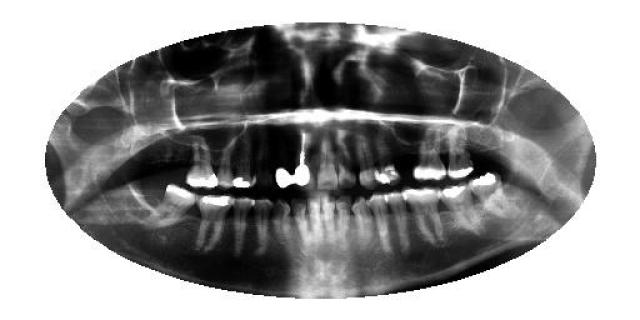Fillings: (194, 194, 232, 252), (438, 184, 484, 231), (468, 172, 514, 218), (186, 139, 218, 189), (446, 128, 474, 178), (376, 134, 400, 186), (233, 134, 255, 188), (275, 164, 294, 188)
Implant: (294, 130, 310, 188)
